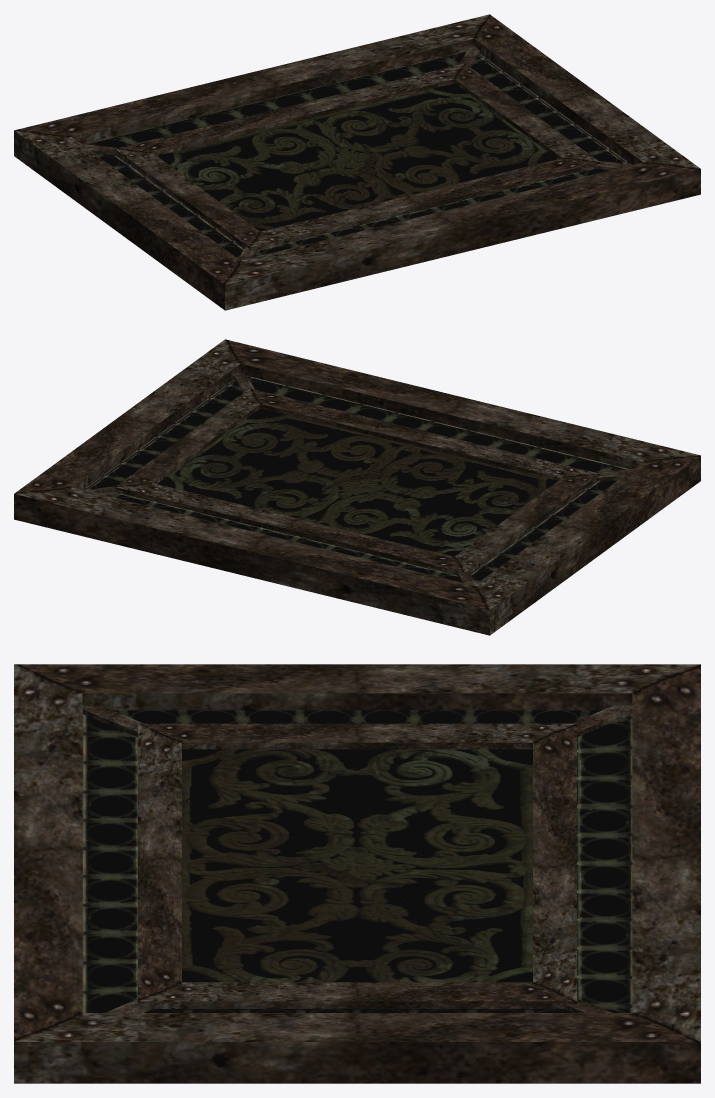
Rendered from grating.dae.
The picture shows the model from 3 angles, top to bottom: view 1: azimuth 30°, elevation 25°; view 2: azimuth 150°, elevation 25°; view 3: azimuth 270°, elevation 25°; orthographic projection. The views are drawn at different scales.
Parts seen in each view (by area): view 1: polySurface1, polySurface2; view 2: polySurface1, polySurface2; view 3: polySurface1, polySurface2.
Part boxes in pixels (box(x1,y1,x2,y2)): polySurface1: box(14, 14, 700, 310); polySurface2: box(85, 51, 631, 258); polySurface1: box(14, 339, 700, 635); polySurface2: box(83, 375, 629, 583); polySurface1: box(14, 664, 700, 1083); polySurface2: box(82, 710, 632, 1012).
Size of the model in its own units: 1.3 by 0.0671 by 1.
